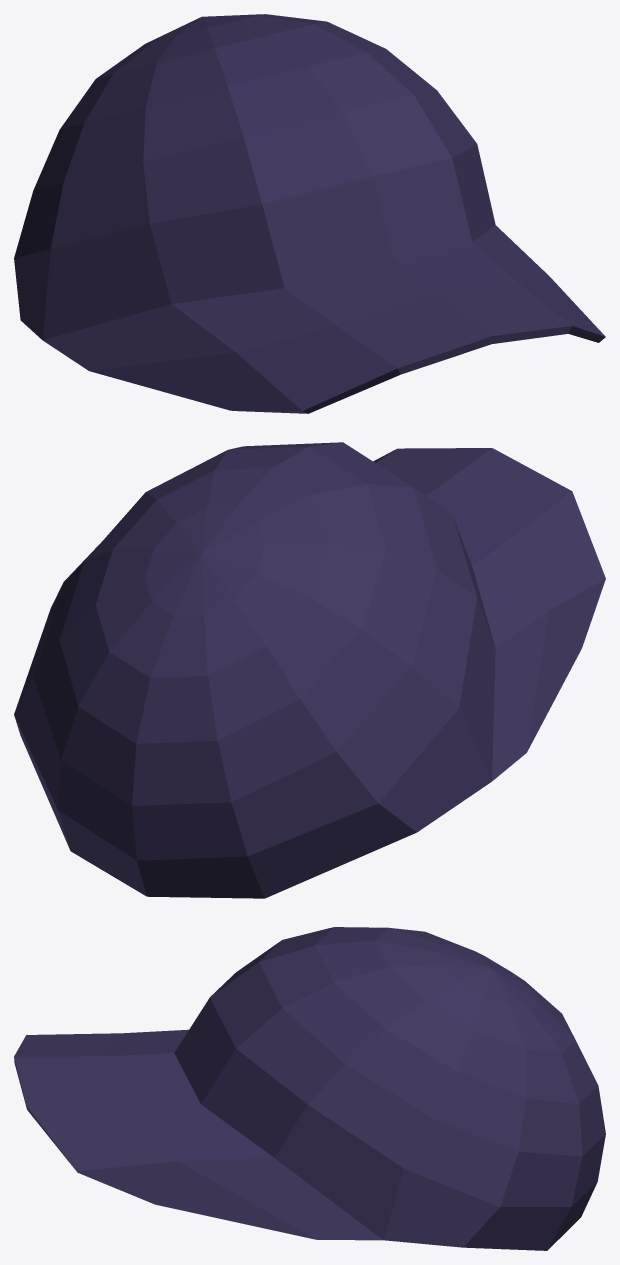
The model's file is Cap.fbx.
3 views of the same model, one above another, from view 1: azimuth 30°, elevation 25°; view 2: azimuth 150°, elevation 25°; view 3: azimuth 270°, elevation 25° (orthographic). The views are drawn at different scales.
Parts seen in each view (by area): view 1: Cap; view 2: Cap; view 3: Cap.
Boxes of the visible parts, left/top/right/bottom form: Cap: left=14, top=14, right=605, bottom=413; Cap: left=14, top=442, right=605, bottom=898; Cap: left=14, top=927, right=605, bottom=1250.
Size of the model in its own units: 15.11 by 10.83 by 20.99.
